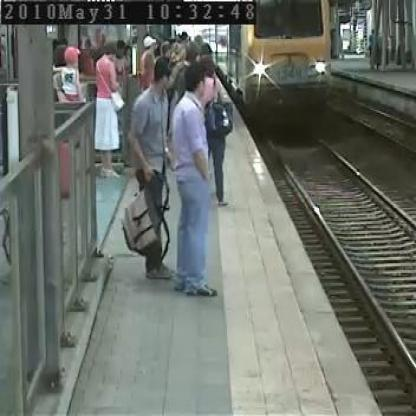other: (239, 56, 287, 86), (308, 58, 330, 80)
